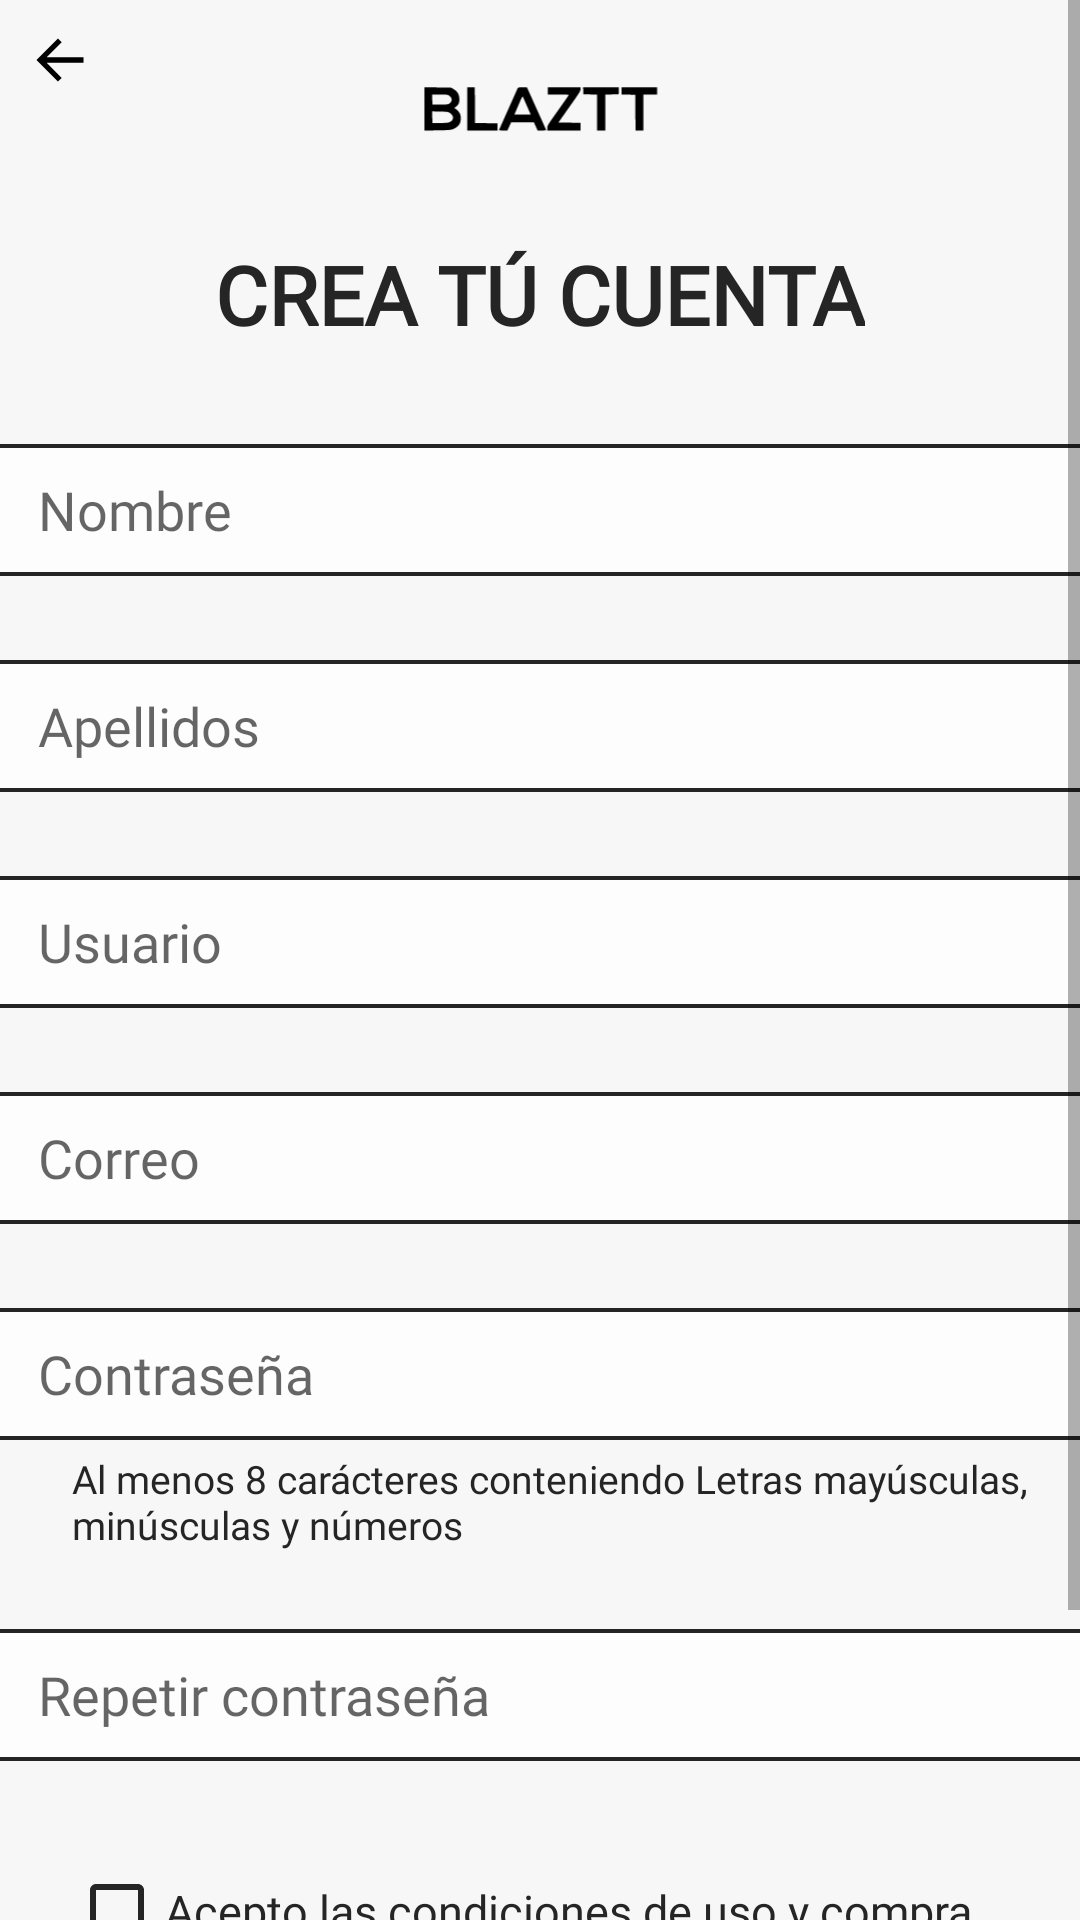

Named icons in this screenshot (1080px x 1920px) and their centers, point (x, y):
long left arrow: point (60, 60)
